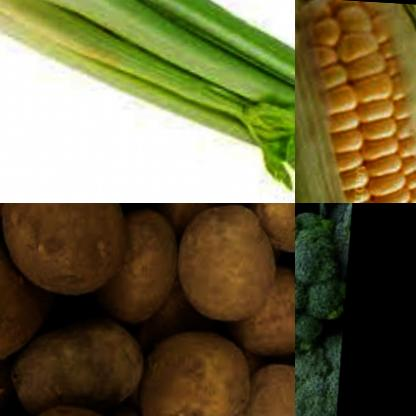broccoli: (295, 203, 351, 367), (295, 288, 347, 416)
celery: (0, 0, 295, 184)
corn: (295, 0, 416, 203)
potato: (12, 307, 156, 416), (172, 203, 295, 327), (9, 203, 140, 306), (142, 322, 272, 416), (94, 203, 187, 332), (0, 243, 66, 380), (233, 253, 295, 359), (242, 203, 295, 264), (245, 363, 295, 416), (0, 203, 32, 239), (118, 399, 167, 416)
